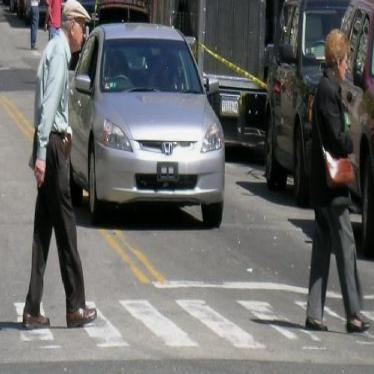ped: (24, 1, 98, 330), (307, 30, 372, 332)
